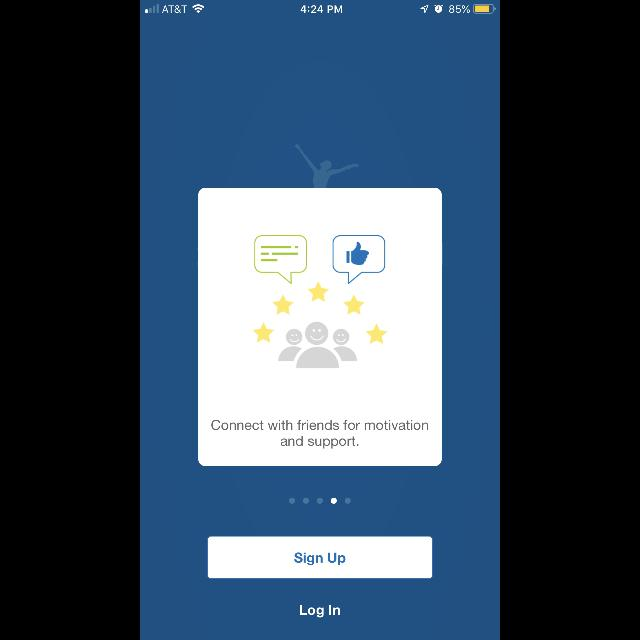image: (252, 235, 388, 369), (296, 144, 358, 188)
pageindicator: (289, 498, 351, 504)
text: (212, 419, 428, 448), (300, 604, 340, 618)
textbutton: (207, 536, 433, 580)
uppertaskbar: (140, 0, 500, 14)
